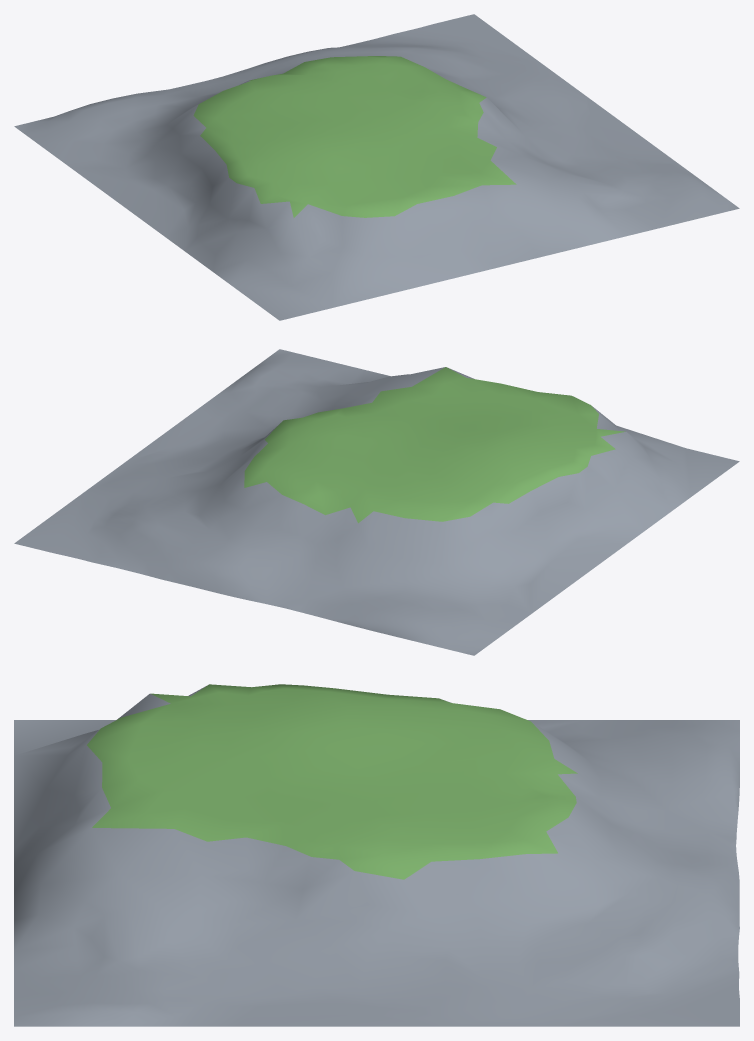
Rendered from SM_Cliffs_10.obj.
3 views of the same model, one above another, from view 1: azimuth 30°, elevation 25°; view 2: azimuth 150°, elevation 25°; view 3: azimuth 270°, elevation 25° (orthographic). The views are drawn at different scales.
Parts seen in each view (by area): view 1: SM_Cliffs_10; view 2: SM_Cliffs_10; view 3: SM_Cliffs_10.
Part boxes in pixels (x1,y1,x2,y2): SM_Cliffs_10: (14,14,739,320); SM_Cliffs_10: (14,349,739,655); SM_Cliffs_10: (14,684,739,1026).
Bounding box in the file's own units: 10.89 × 1.44 × 10.89.
Materials: 1 (1 with a texture image).
